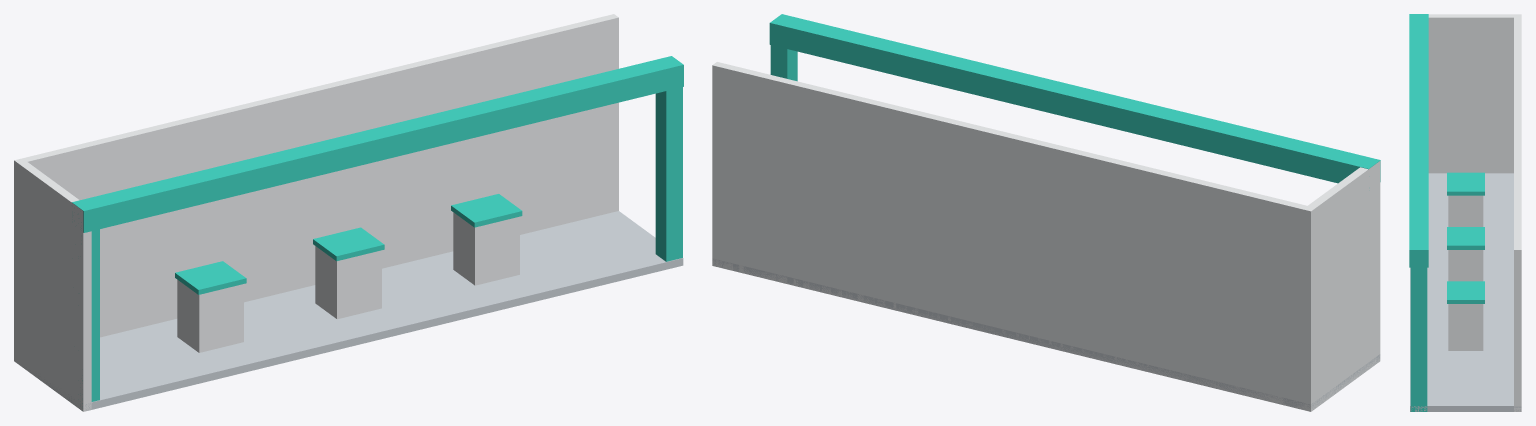
The picture shows the model from 3 angles, left to right: view 1: azimuth 30°, elevation 25°; view 2: azimuth 150°, elevation 25°; view 3: azimuth 270°, elevation 25°; orthographic projection. The views are drawn at different scales.
Parts seen in each view (by area): view 1: Exhibition Booth Concept; view 2: Exhibition Booth Concept; view 3: Exhibition Booth Concept.
Part boxes in pixels (x1,y1,x2,y2): Exhibition Booth Concept: (14,14,683,411); Exhibition Booth Concept: (712,14,1380,411); Exhibition Booth Concept: (1409,14,1521,411).
Bounding box in the file's own units: 10 × 3.2 × 2.01.
